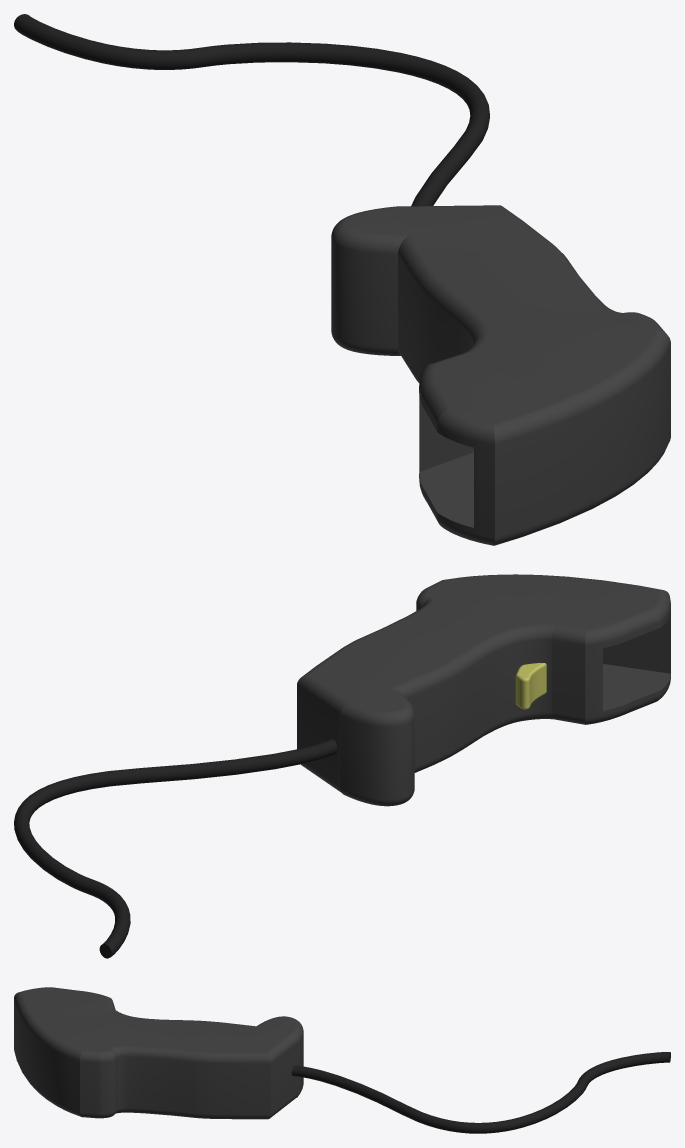
Rendered from Barcode_Model.fbx.
3 renders of one model, top to bottom at view 1: azimuth 30°, elevation 25°; view 2: azimuth 150°, elevation 25°; view 3: azimuth 270°, elevation 25°, orthographic. The views are drawn at different scales.
Visible parts, largest first — view 1: ScannerMain, Cable, Cube; view 2: ScannerMain, Cable, Cube, Trigger; view 3: ScannerMain, Cable.
Boxes of the visible parts, x1,y1,x2,y2 form: ScannerMain: (331, 205, 670, 545); Cable: (14, 14, 489, 206); Cube: (419, 397, 473, 527); ScannerMain: (297, 574, 670, 806); Cable: (14, 738, 337, 957); Cube: (603, 612, 670, 710); Trigger: (515, 665, 546, 708); ScannerMain: (14, 987, 303, 1119); Cable: (291, 1052, 669, 1133).
Size of the model in its own units: 25.23 by 6.86 by 61.91.
